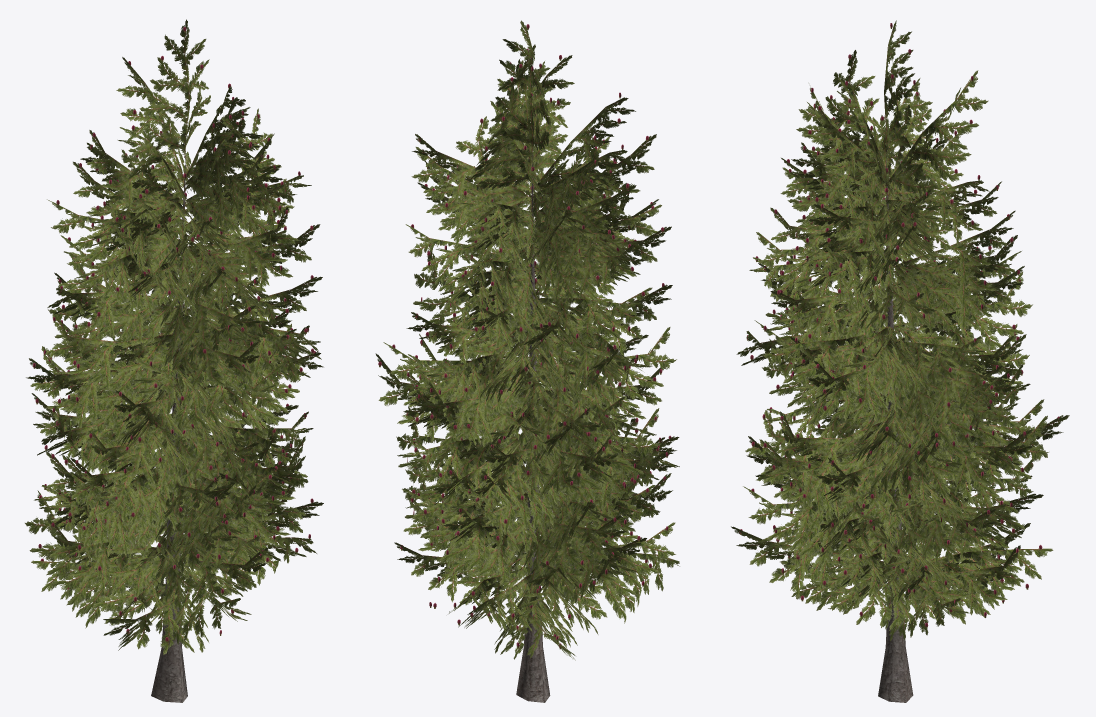
The model's file is Larix_Decidua_Spring_Adult.glb.
The picture shows the model from 3 angles, left to right: view 1: azimuth 30°, elevation 25°; view 2: azimuth 150°, elevation 25°; view 3: azimuth 270°, elevation 25°; orthographic projection.
Visible parts, largest first — view 1: Larix_Decidua_Spring_Adult__LOD3; view 2: Larix_Decidua_Spring_Adult__LOD3; view 3: Larix_Decidua_Spring_Adult__LOD3.
Boxes of the visible parts, bbox=[...] form: Larix_Decidua_Spring_Adult__LOD3: bbox=[25, 19, 323, 702]; Larix_Decidua_Spring_Adult__LOD3: bbox=[375, 20, 679, 702]; Larix_Decidua_Spring_Adult__LOD3: bbox=[731, 20, 1069, 702].
Bounding box in the file's own units: 8.23 × 18.84 × 9.03.
3 materials, 3 textured.
